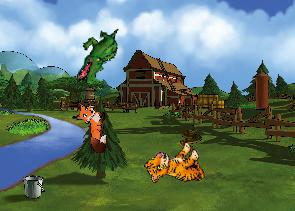crocodile: (75, 23, 120, 88)
fox: (72, 101, 107, 153)
tiger: (141, 135, 210, 200)
